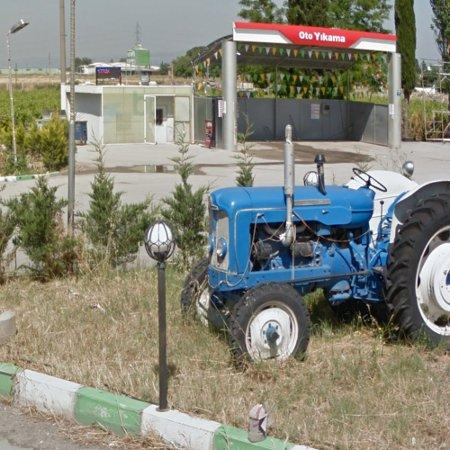tractors: (182, 125, 450, 362)
